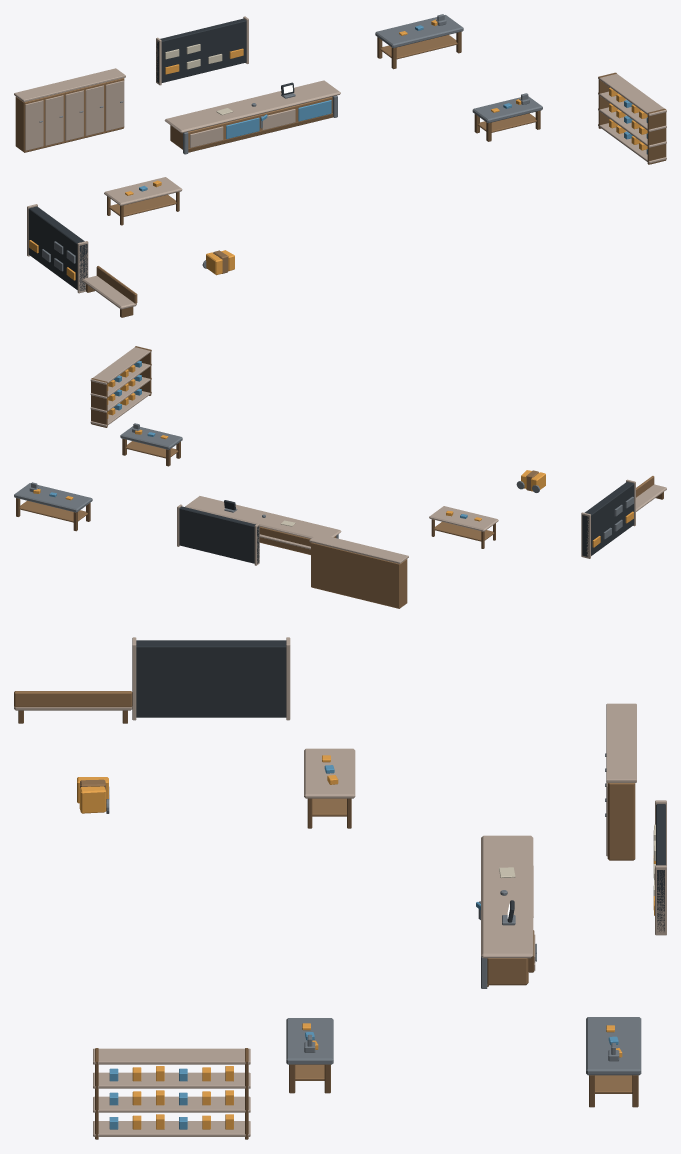
File: hingehall_repair_shop.glb
3 renders of one model, top to bottom at view 1: azimuth 30°, elevation 25°; view 2: azimuth 150°, elevation 25°; view 3: azimuth 270°, elevation 25°, orthographic. The views are drawn at different scales.
Size of the model in its own units: 25.78 by 2.82 by 16.55.
